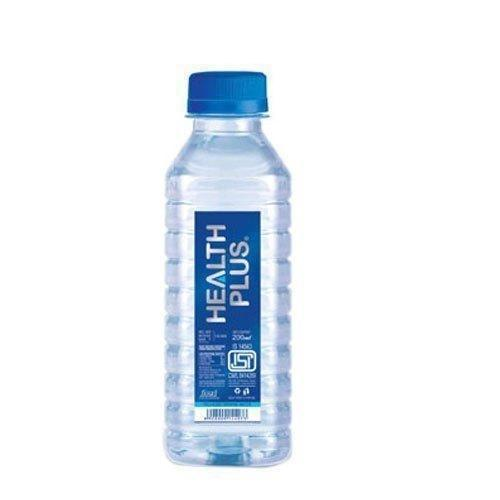bottle-plastic: (160, 67, 297, 470)
